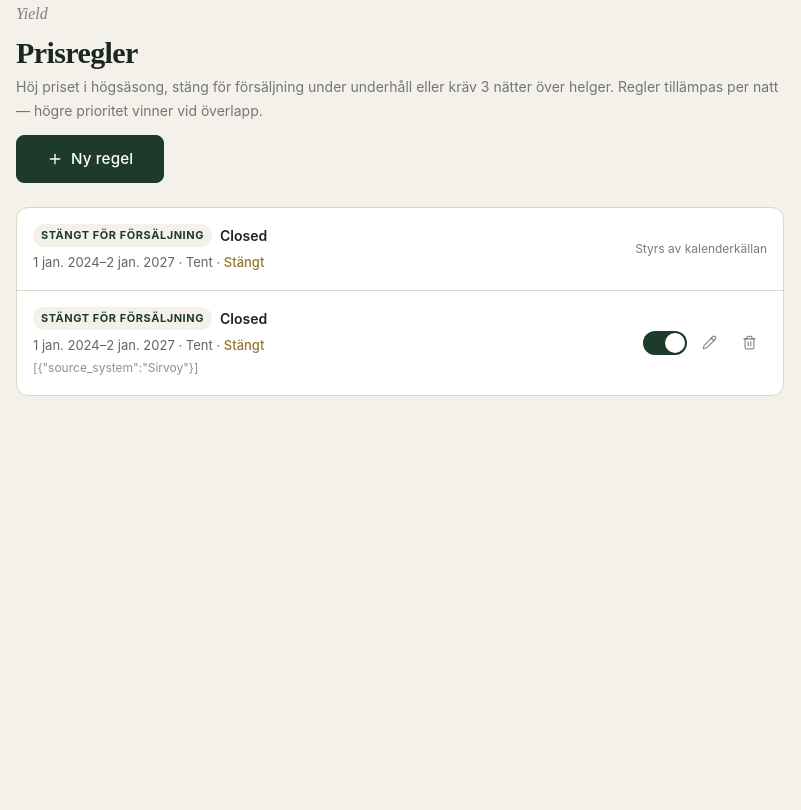
Test: preserves ordinary or unrecognized notes in the list, editor and save: [{"source_system":"Sirvoy"}]
Later steps or results of the test are not shown.
Check: the text "[{\"source_system\":\"Sirvoy\"}]" is shown, box [33,360,198,375]
Click the button titled "Redigera" at (709, 343), box [691,325,727,361]
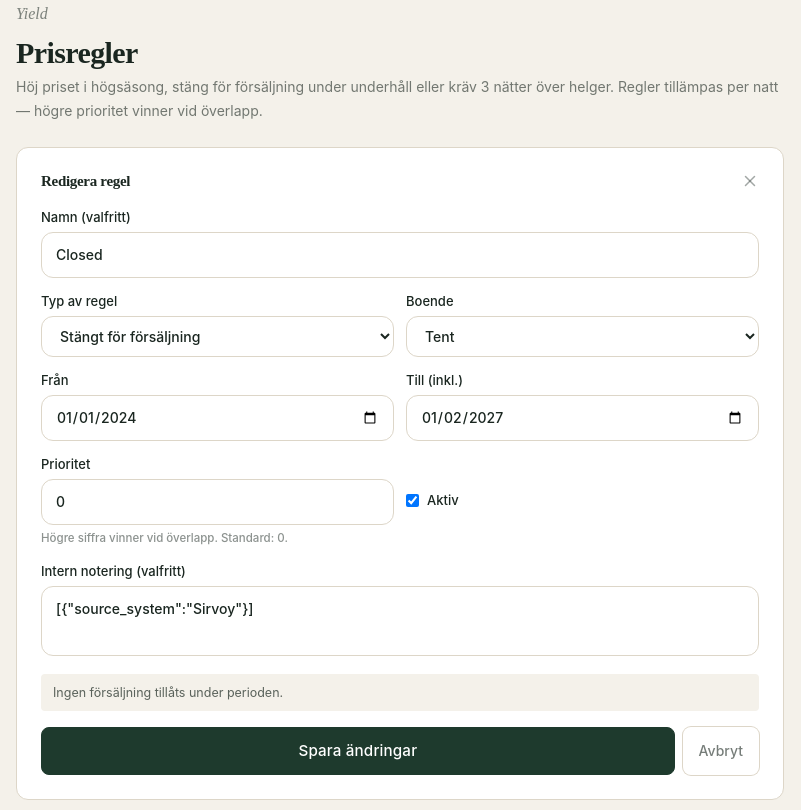
Check: the text box labelled "Intern notering (valfritt)" holds "[{\"source_system\":\"Sirvoy\"}]", box [41,586,759,656]
